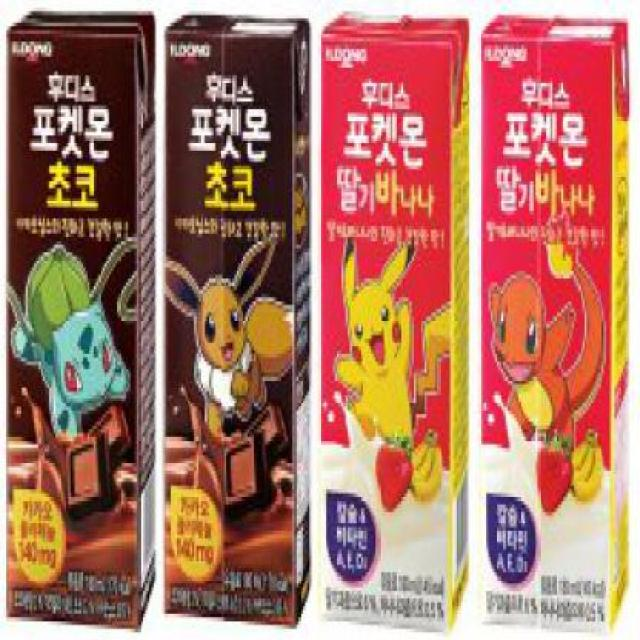tetra: (470, 0, 638, 637), (310, 0, 476, 637), (0, 0, 165, 637), (158, 0, 316, 637)
